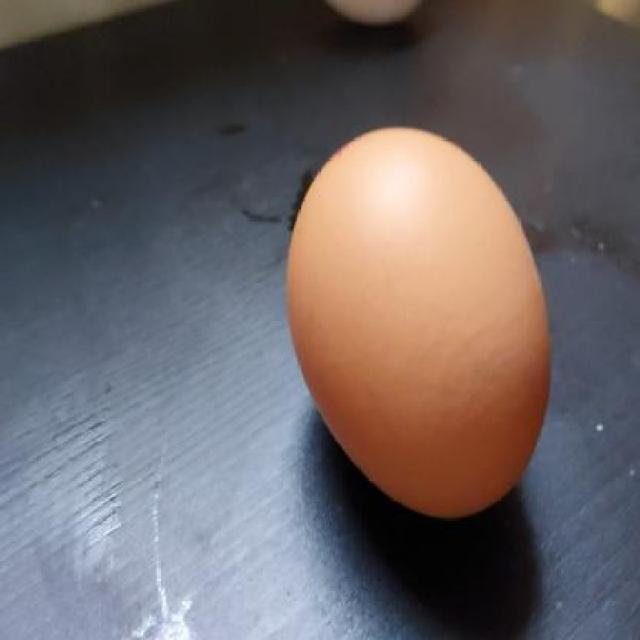biodegradable: (285, 126, 550, 517)
